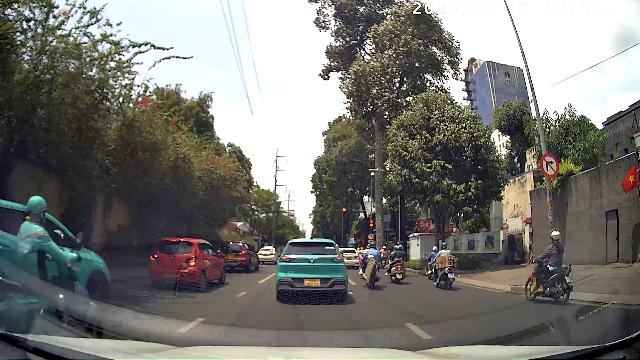123b-cam-re-phai: (540, 153, 560, 178)
